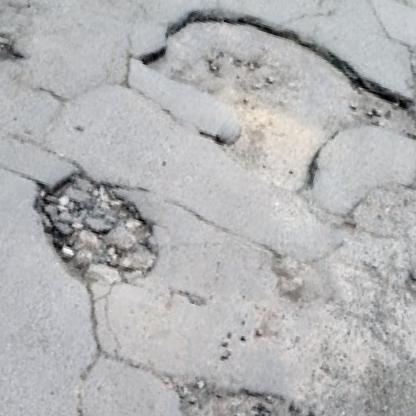pothole: (111, 0, 416, 229), (14, 154, 178, 301), (147, 358, 318, 416), (0, 16, 30, 72), (399, 250, 416, 317)
